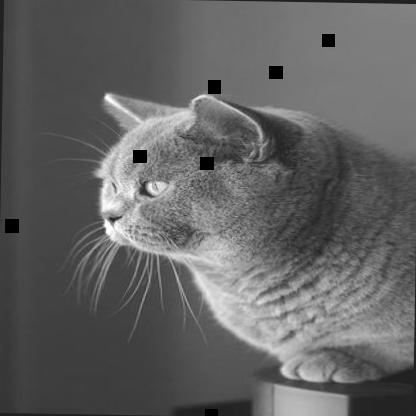cat: (88, 90, 415, 388)
